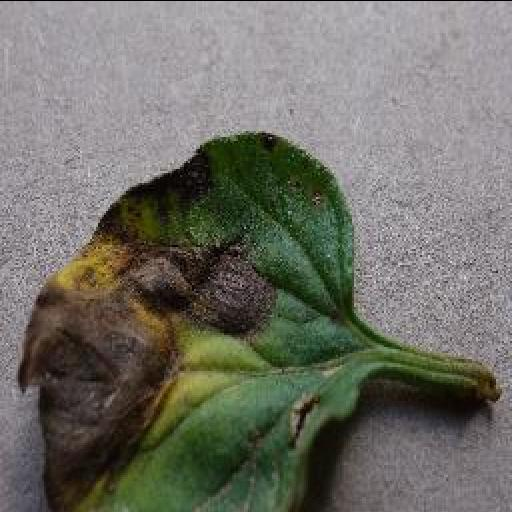Early Blight: (18, 130, 362, 506)
